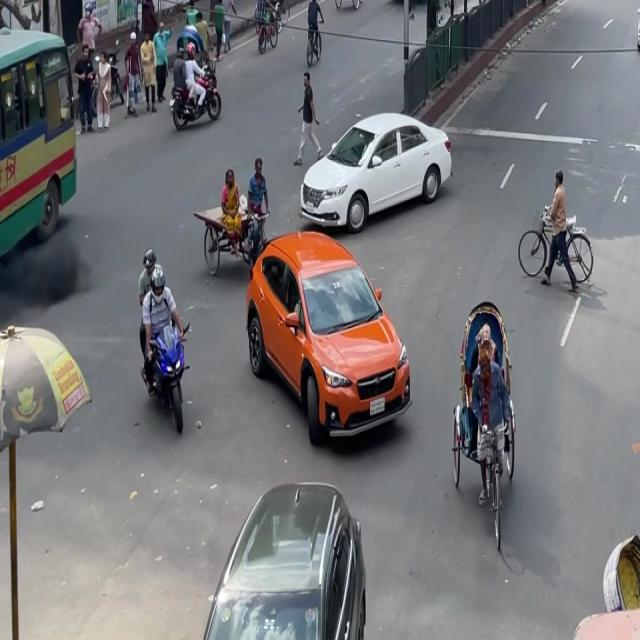bicycle: (516, 205, 598, 292), (302, 0, 326, 62), (255, 10, 286, 55)
bus: (0, 16, 85, 275)
car: (242, 217, 418, 462), (200, 464, 370, 640), (297, 89, 453, 246), (632, 0, 640, 55)
motorbike: (127, 233, 202, 441), (165, 45, 224, 140)
